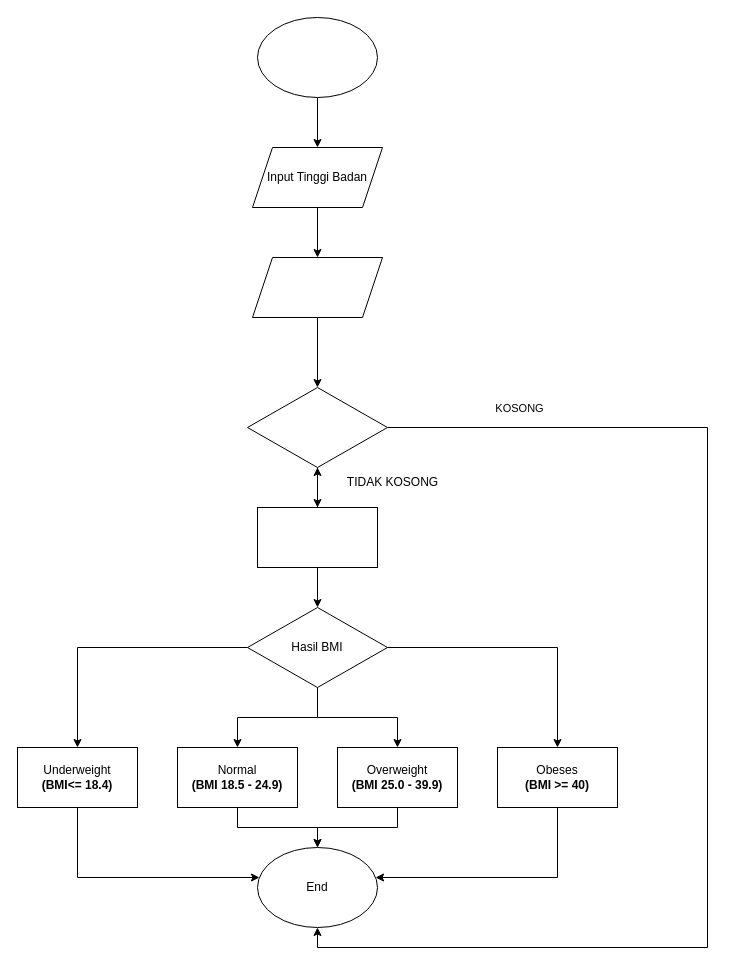
Image size: 733x973. Some labels were removed from this diagram. The shapes that lost their labels are listed below. From the top down, each one's centre as x and y in pixels, then its label:
At point (317, 57): "START".
At point (317, 287): "Input Berat Badan".
At point (317, 427): "Apakah BMI Kosong/Tidak?".
At point (317, 537): "Menghitung BMI".
